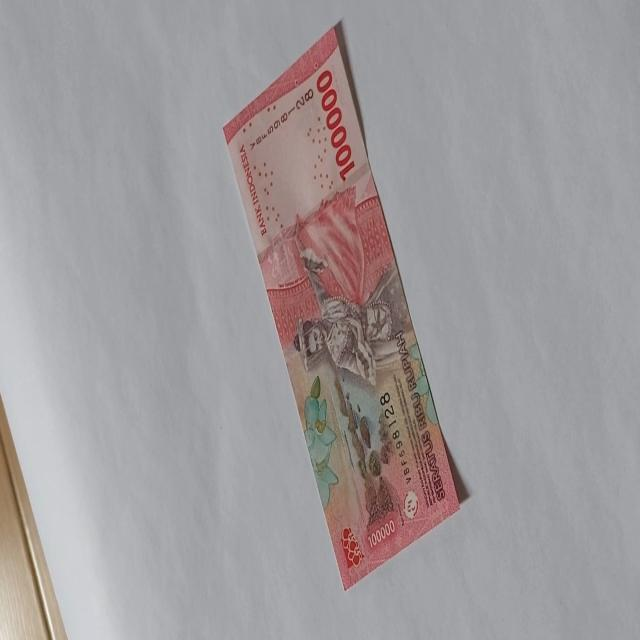seratus ribu rupiah: (221, 24, 461, 590), (293, 244, 393, 388)
